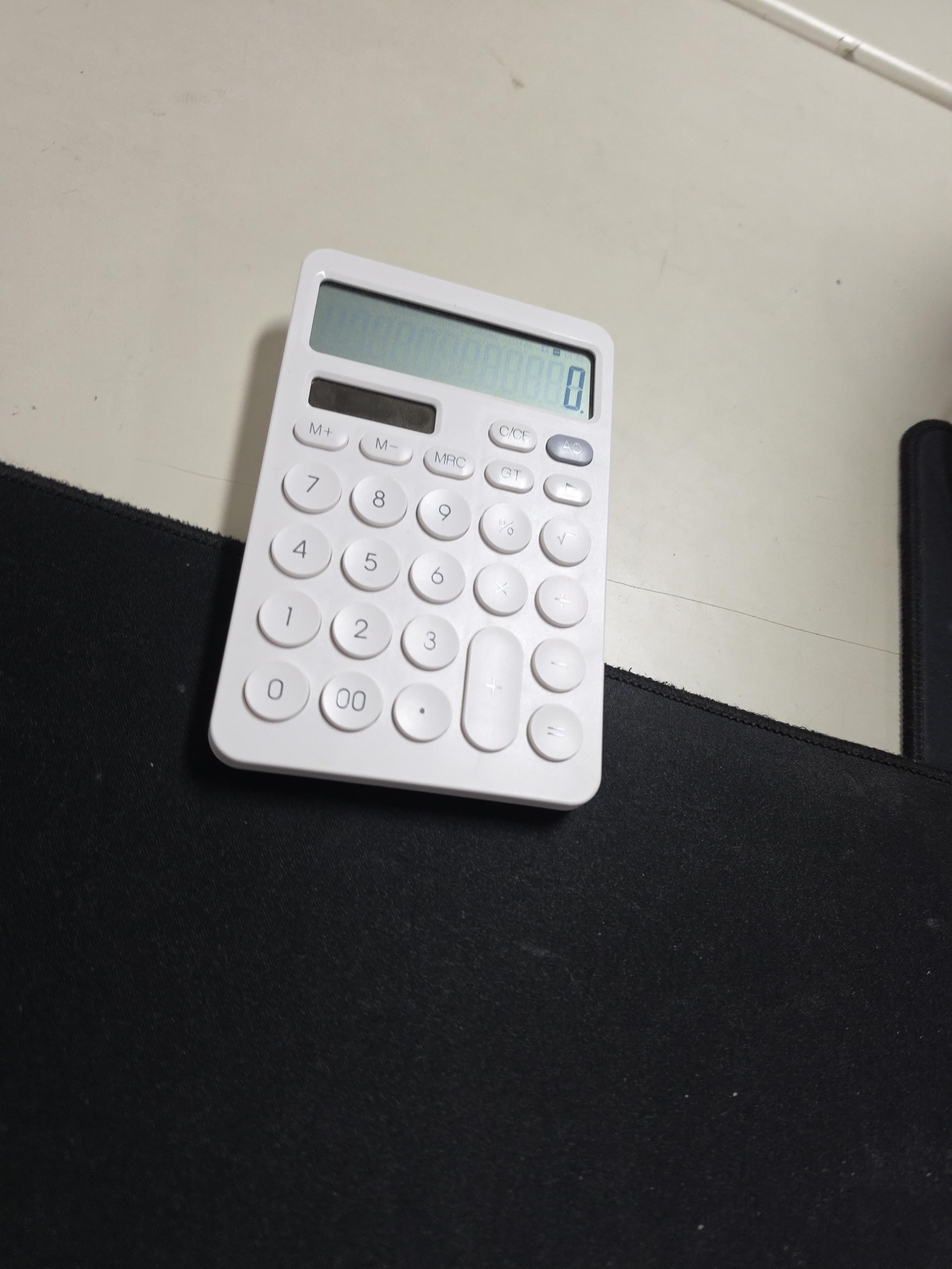calculator: (207, 247, 615, 812)
